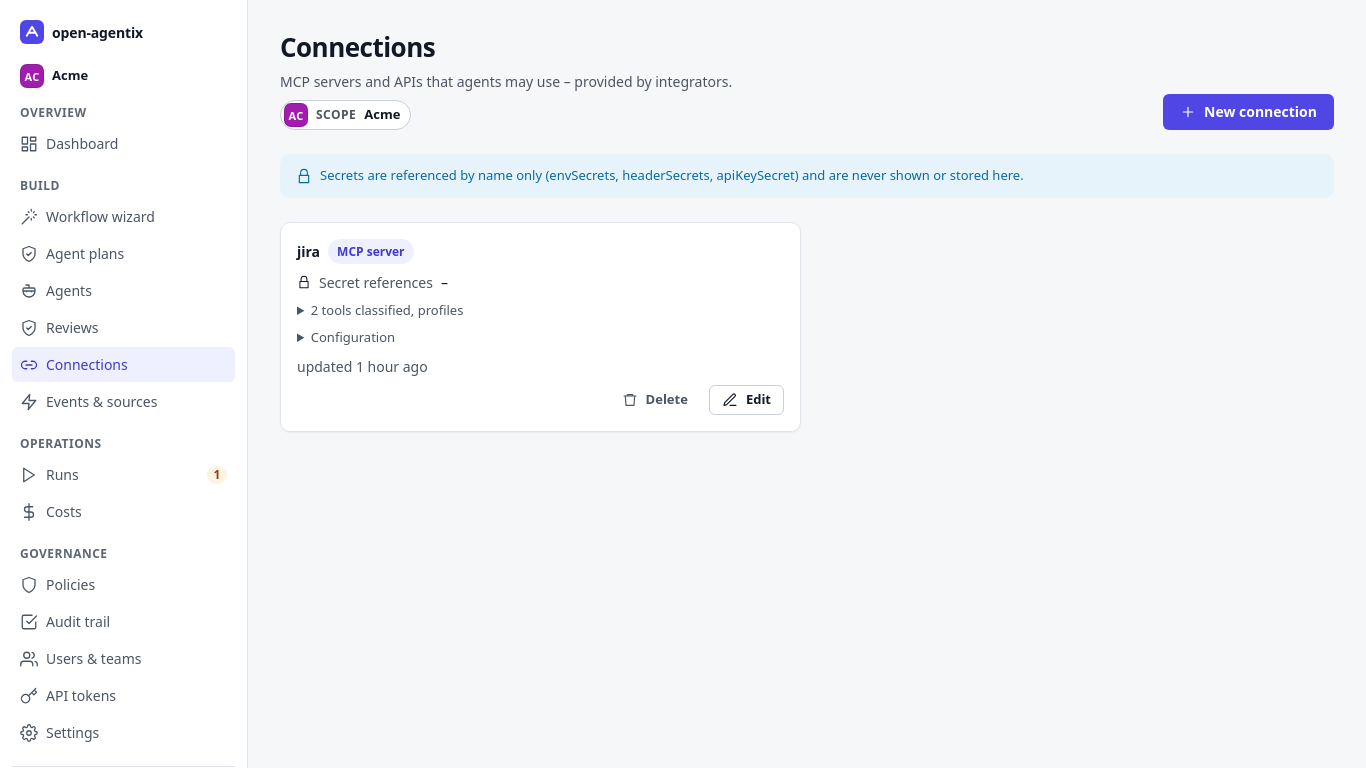
connections page: tool profiles › warns about a read profile with a write tool and removes profiles
Click the button "Edit". click: (746, 400)
box: left=709, top=385, right=784, bottom=415
(page scrolled)
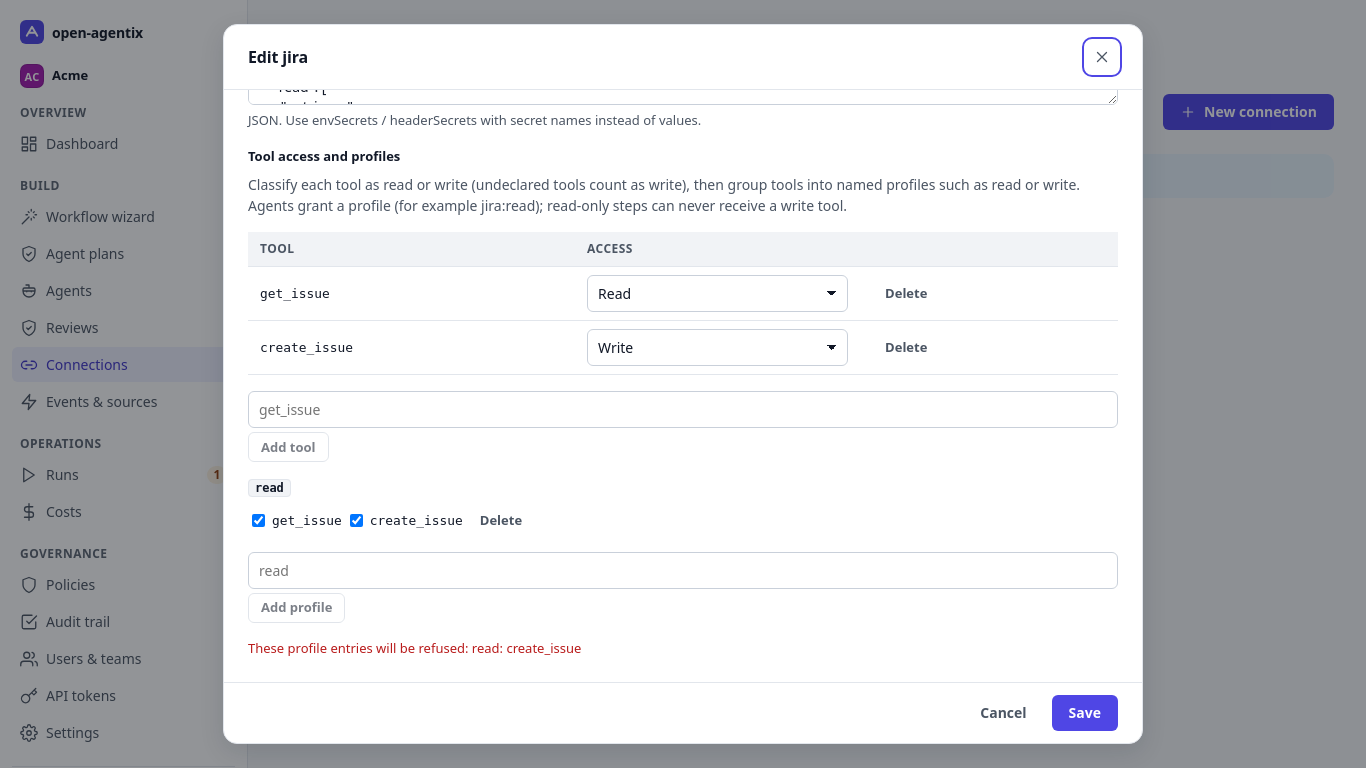
Expected: the message shows "read: create_issue", left=248, top=639, right=581, bottom=657
Click the button with aria-label "Remove profile read". click: (501, 521)
box: left=467, top=506, right=535, bottom=536
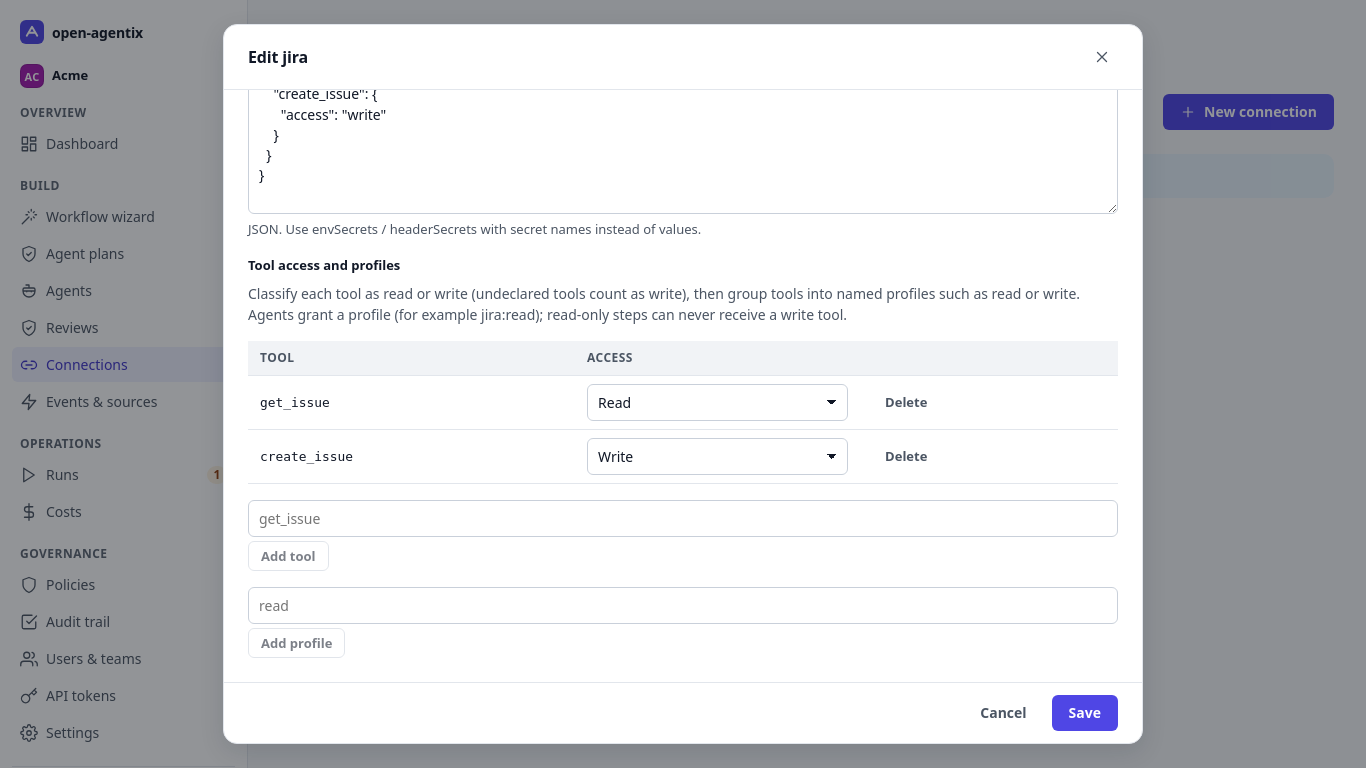
Expected: the message "These profile entries will be refused: read: create_issue" is gone
